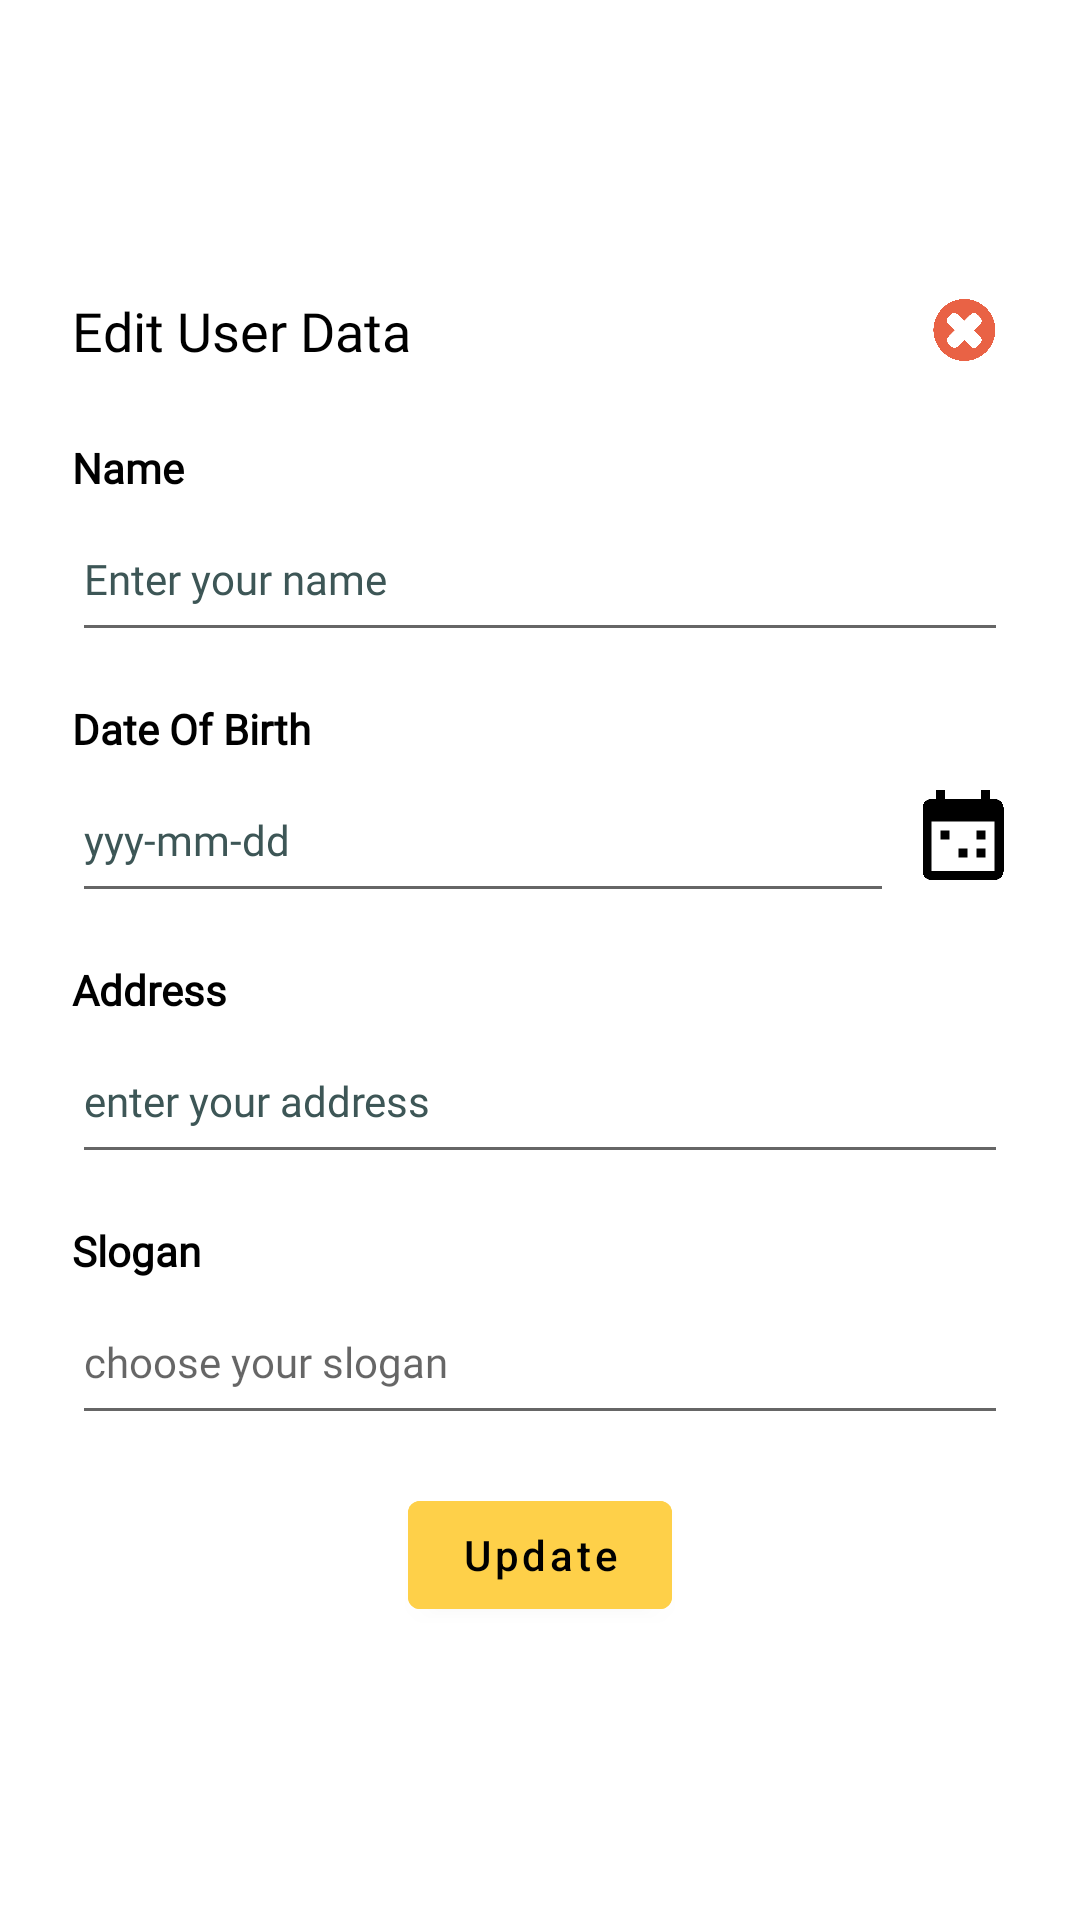

Locate icon controls on the screen. Image size 1080*1920, boxes as (left=x1, top=y1, right=x2, bottom=y2).
calendar: (left=923, top=790, right=1004, bottom=880)
close: (left=933, top=299, right=995, bottom=361)
